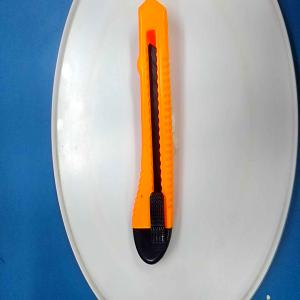estilete: (132, 0, 174, 265)
